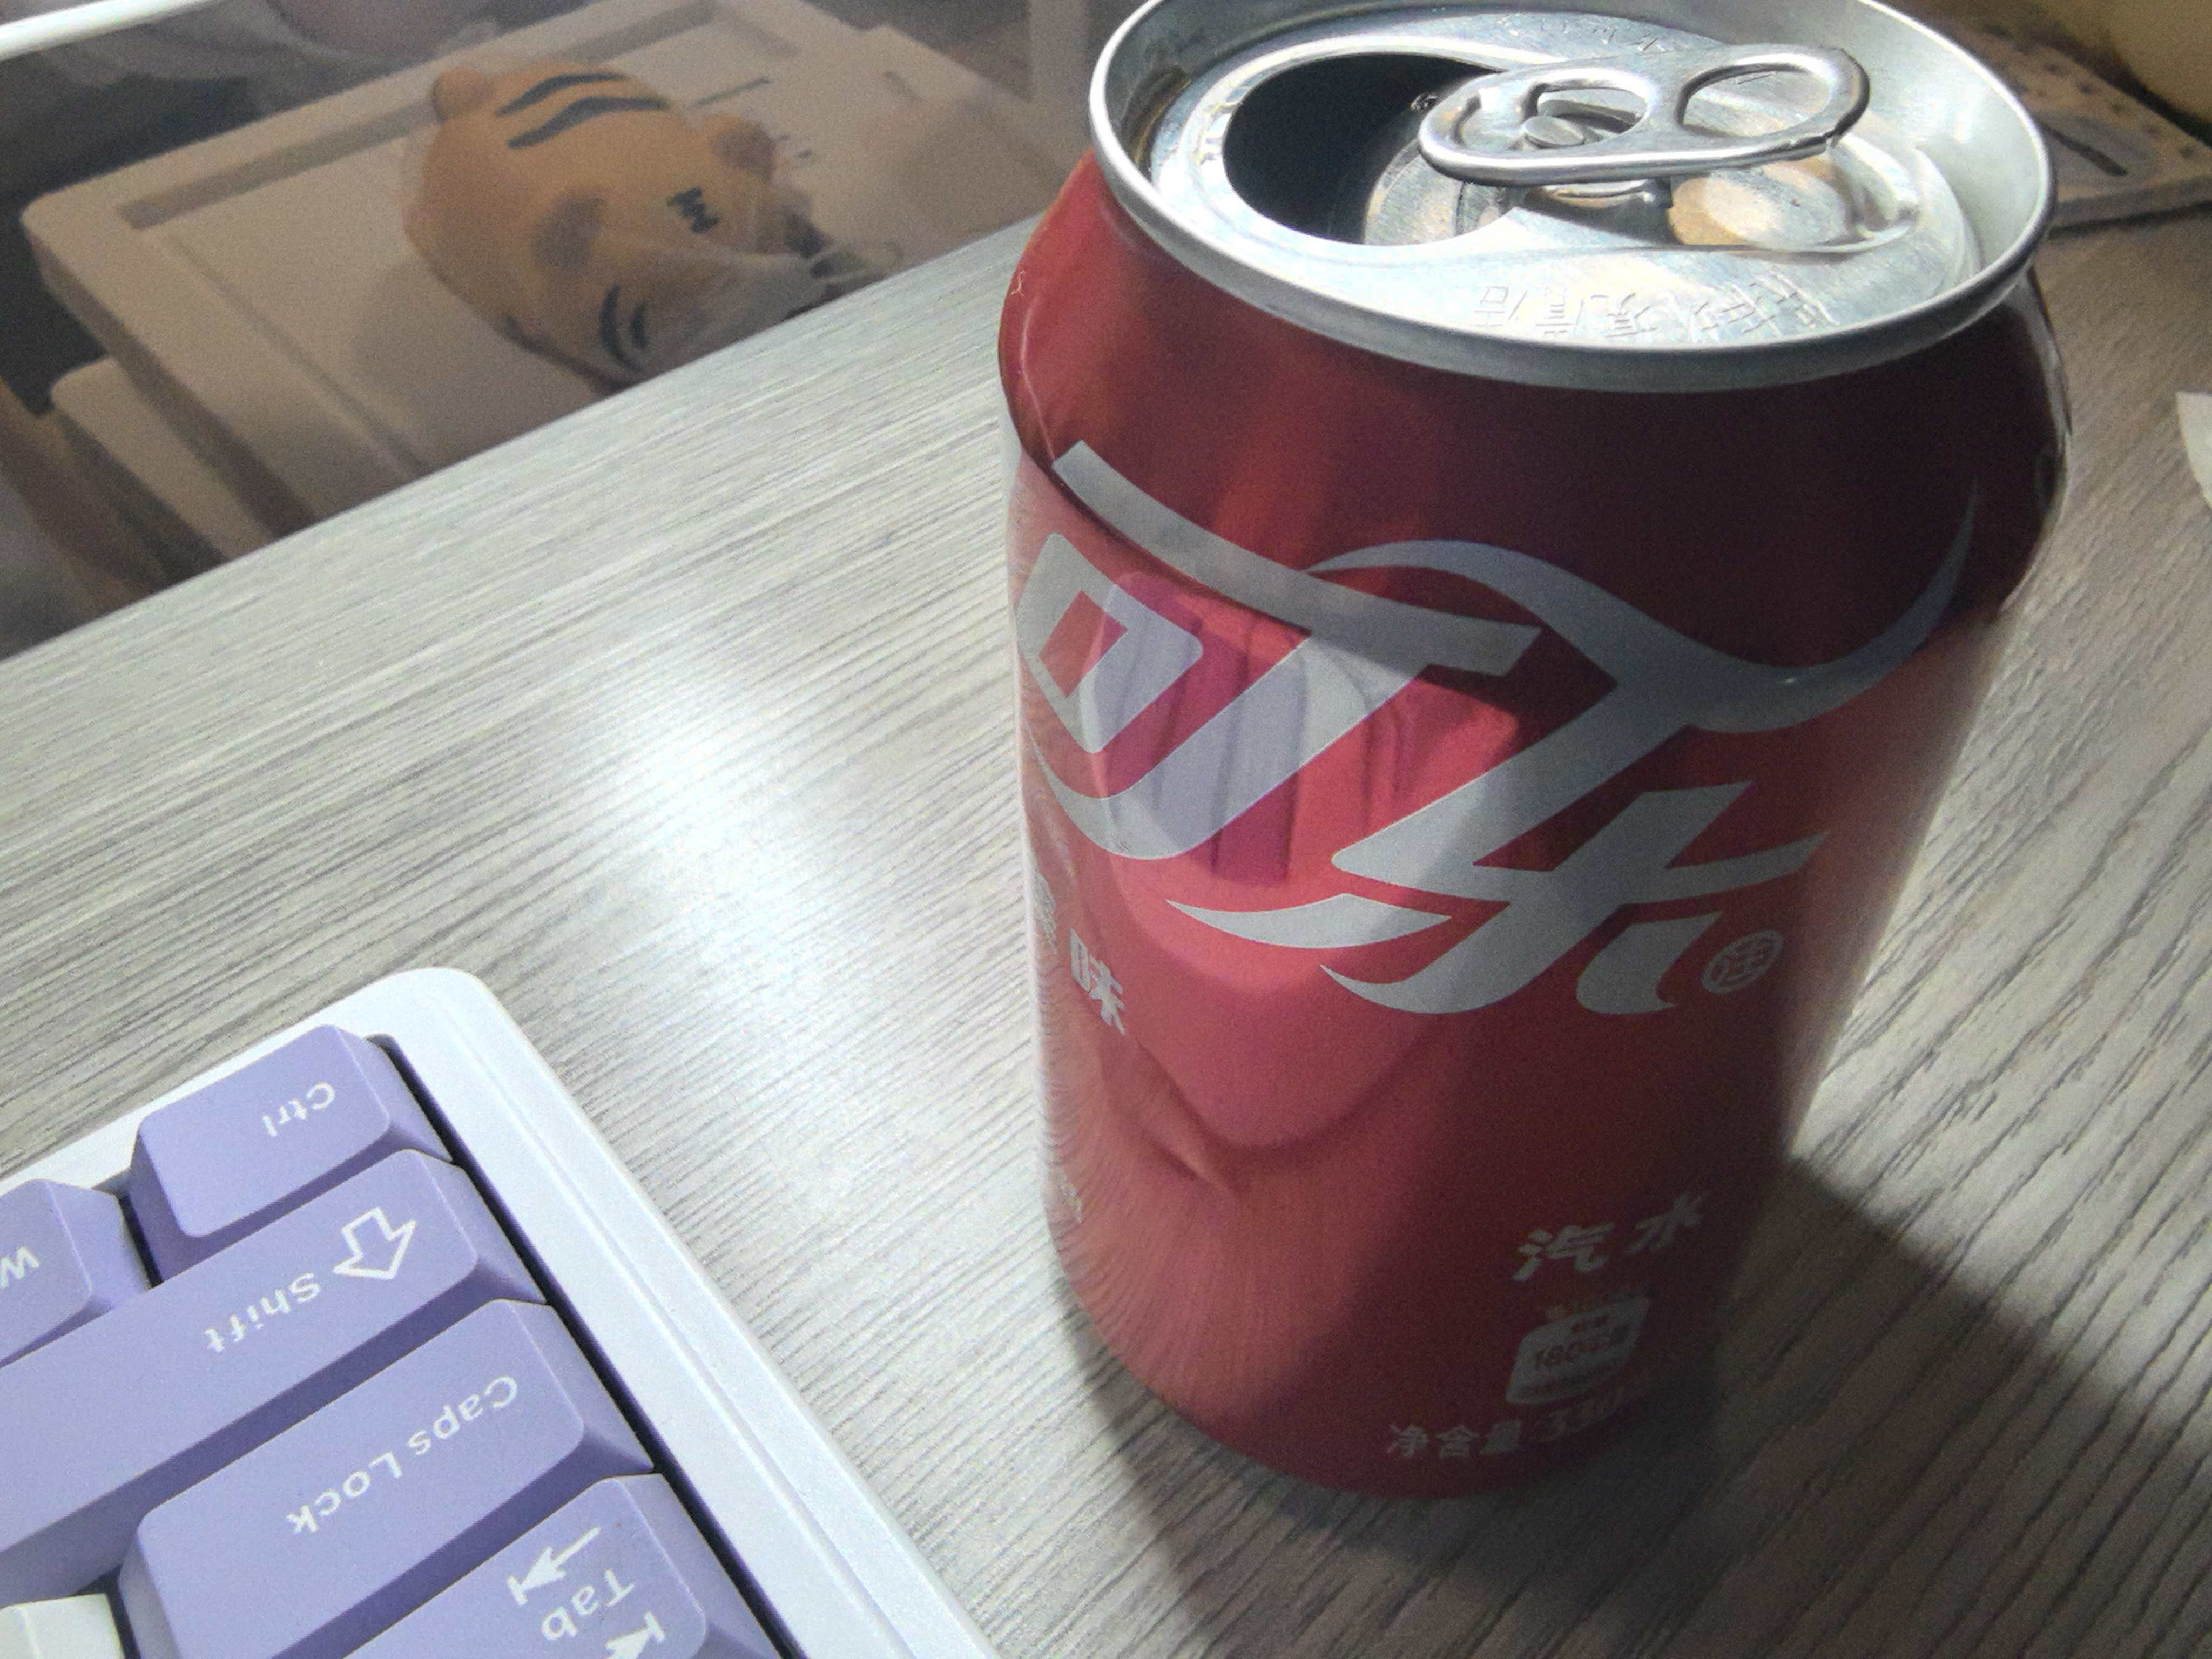可乐: (946, 17, 2001, 1478)
